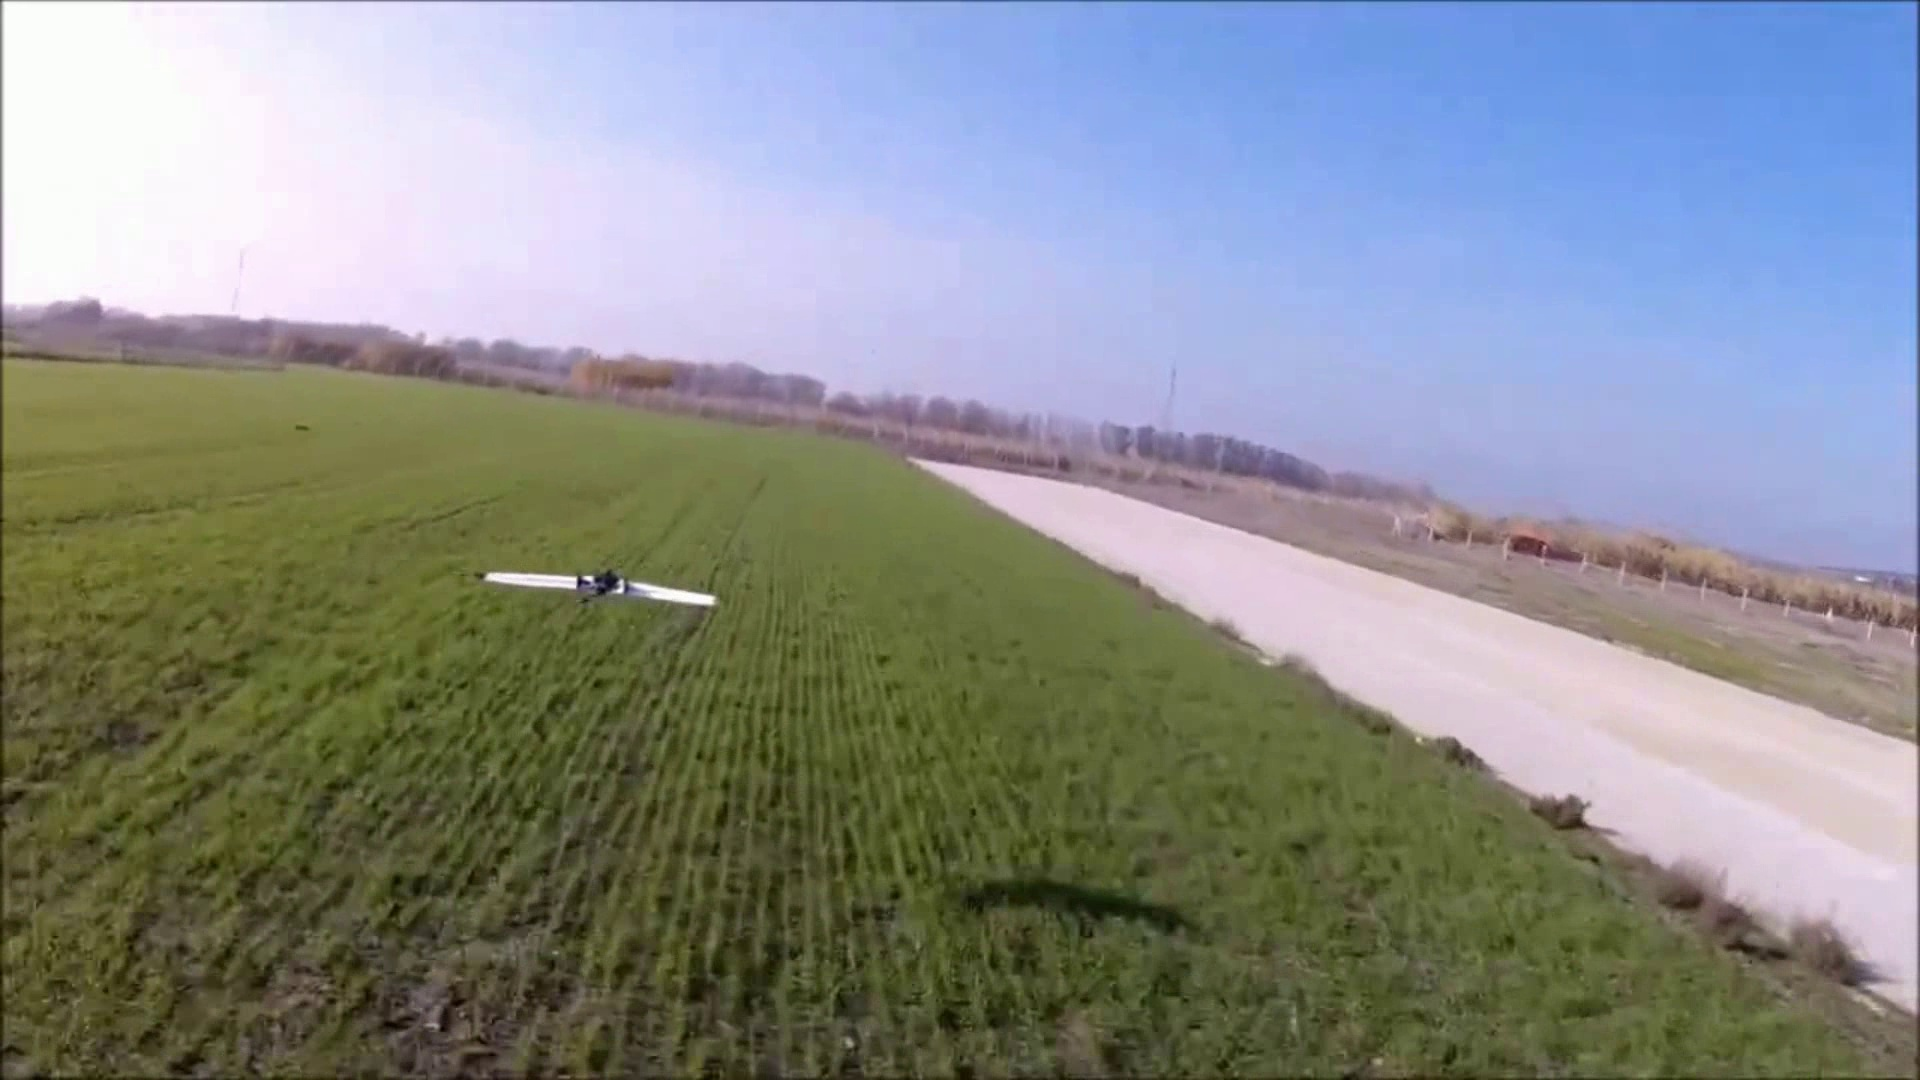airplane: (481, 565, 716, 614)
